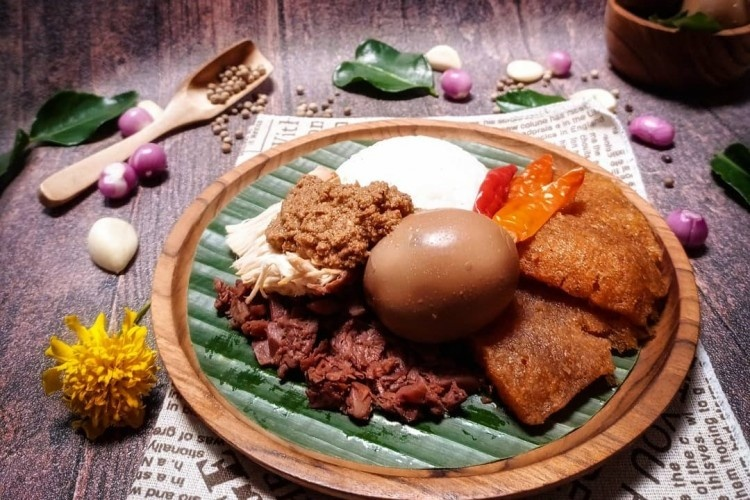gudeg: (223, 164, 615, 437)
